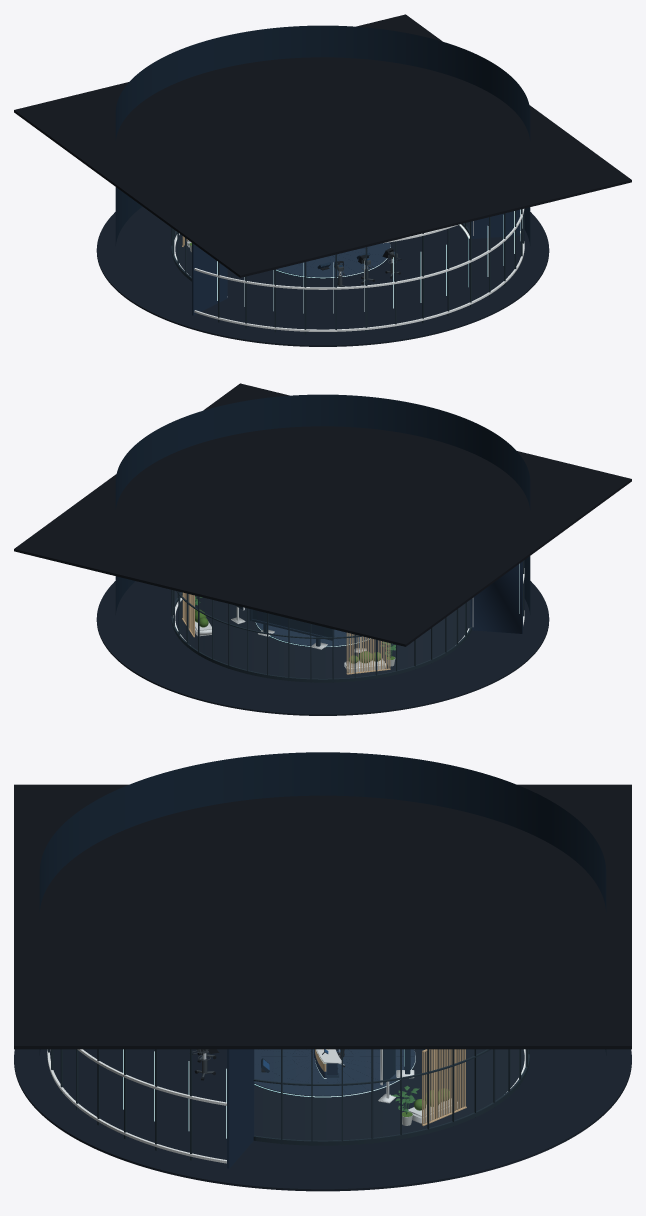
The model's file is news-studio.glb.
The picture shows the model from 3 angles, top to bottom: view 1: azimuth 30°, elevation 25°; view 2: azimuth 150°, elevation 25°; view 3: azimuth 270°, elevation 25°; orthographic projection. The views are drawn at different scales.
Parts seen in each view (by area): view 1: Studio_Ceiling, Studio_StudioFloor, CityBackdrop, Studio_DeskNavy, Studio_Mullion, Studio_WhiteFrame, Studio_StageFloor, Studio_NeonLine; view 2: Studio_Ceiling, Studio_StudioFloor, CityBackdrop, Studio_Mullion, Studio_DeskNavy, Studio_Hinoki, Studio_ScreenFrame, Studio_WhiteFrame, Studio_StageFloor; view 3: Studio_Ceiling, Studio_StudioFloor, CityBackdrop, Studio_Mullion, Studio_StageFloor, Studio_DeskNavy, Studio_Hinoki, Studio_WhiteFrame, Studio_ScreenFrame.
Boxes of the visible parts, x1,y1,x2,y2 form: Studio_Ceiling: (14, 14, 631, 277); Studio_StudioFloor: (96, 206, 549, 346); CityBackdrop: (115, 25, 530, 245); Studio_DeskNavy: (192, 209, 524, 315); Studio_Mullion: (171, 209, 524, 334); Studio_WhiteFrame: (174, 209, 524, 331); Studio_StageFloor: (276, 242, 390, 278); Studio_NeonLine: (174, 209, 522, 313); Studio_Ceiling: (14, 383, 631, 646); Studio_StudioFloor: (96, 581, 549, 715); CityBackdrop: (115, 394, 530, 614); Studio_Mullion: (171, 560, 524, 682); Studio_DeskNavy: (470, 560, 524, 633); Studio_Hinoki: (182, 592, 390, 674); Studio_ScreenFrame: (235, 605, 357, 646); Studio_WhiteFrame: (173, 568, 524, 672); Studio_StageFloor: (256, 622, 369, 647); Studio_Ceiling: (14, 784, 631, 1049); Studio_StudioFloor: (14, 1049, 631, 1191); CityBackdrop: (39, 752, 606, 1055); Studio_Mullion: (48, 1049, 529, 1160); Studio_StageFloor: (254, 1049, 415, 1097); Studio_DeskNavy: (47, 1049, 337, 1168); Studio_Hinoki: (422, 1049, 466, 1126); Studio_WhiteFrame: (47, 1049, 525, 1163); Studio_ScreenFrame: (261, 1049, 410, 1084).
Size of the model in its own units: 24 by 9 by 24.
